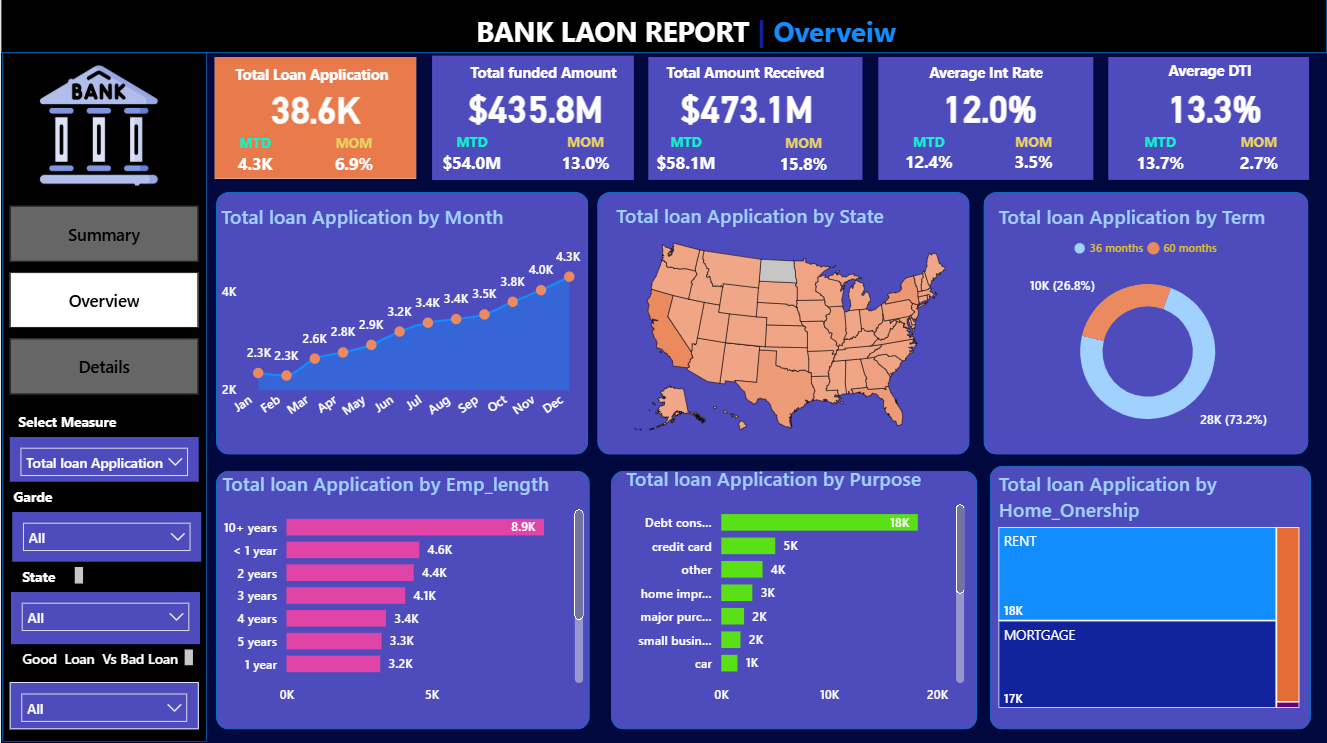

Layout of this report page (visuals, bound fields, positions):
{"tool":"powerbi","page":{"name":"Overview","canvas":[1280,720],"ordinal":1},"visuals":[{"type":"shape","box":[1.2,53.1,197.9,666],"z":0},{"type":"shape","box":[0,0,1280,54.2],"z":1000},{"type":"textbox","box":[454.2,9.6,514.6,45.3],"z":2000},{"type":"shape","box":[206.3,58,194.7,117.3],"z":3000},{"type":"card","fields":{"Values":["Date Table.Total loan Application"]},"box":[205.8,81,194.9,52.1],"z":4000},{"type":"textbox","box":[205.4,60.7,193.7,37.5],"z":5000},{"type":"card","title":"MTD","fields":{"Values":["Date Table.MTD Loan Application"]},"box":[207.2,131.7,75.5,45.3],"z":6000},{"type":"card","title":"MOM","fields":{"Values":["Date Table.MOM LOAN APPLICATION"]},"box":[303.3,131.7,75.5,45.3],"z":7000},{"type":"shape","box":[416.4,56.7,194.7,119.9],"z":8000},{"type":"card","fields":{"Values":["Date Table.Total Funded Amount"]},"box":[418.9,80,194.9,52.1],"z":9000},{"type":"textbox","box":[420.3,58,219.2,41.3],"z":10000},{"type":"card","title":"MTD","fields":{"Values":["Date Table.MTD funded amount"]},"box":[412.6,130.2,83.8,46.4],"z":11000},{"type":"card","title":"MOM","fields":{"Values":["Date Table.MOM total amount Received"]},"box":[515.7,130.2,98,46.4],"z":12000},{"type":"shape","box":[625.3,58,206.3,118.6],"z":13000},{"type":"card","fields":{"Values":["financial_loan.Totla Amount Received"]},"box":[622.1,80.1,194.9,52.1],"z":14000},{"type":"textbox","box":[626.6,58,188.2,41.3],"z":15000},{"type":"card","title":"MTD","fields":{"Values":["Date Table.MTD Total amount Received"]},"box":[623.7,130.3,74.8,47.1],"z":16000},{"type":"card","title":"MOM","fields":{"Values":["Date Table.MOM total Amount received"]},"box":[719.4,131.5,110.9,45.1],"z":17000},{"type":"shape","box":[847.1,58,207.6,118.6],"z":18000},{"type":"card","fields":{"Values":["financial_loan.Average Interest rate"]},"box":[857.4,79.9,193.4,51.6],"z":19000},{"type":"textbox","box":[857.4,58,193.4,40],"z":20000},{"type":"card","title":"MTD","fields":{"Values":["Date Table.MTD average int Rate"]},"box":[843.2,130.2,104.4,45.1],"z":21000},{"type":"card","title":"MOM","fields":{"Values":["Date Table.MOM Avg  Int rate"]},"box":[957.9,130.2,77.4,45.1],"z":22000},{"type":"shape","box":[1068.8,58,193.4,118.6],"z":23000},{"type":"card","fields":{"Values":["Date Table.Avg DTI"]},"box":[1068.8,79.9,205,51.6],"z":24000},{"type":"textbox","box":[1068.8,56.7,203.7,41.3],"z":25000},{"type":"card","title":"MTD","fields":{"Values":["Date Table.MTD avg DTI"]},"box":[1080.8,130.2,75.5,45.3],"z":26000},{"type":"card","title":"MOM","fields":{"Values":["Date Table.MOM Avg DTI"]},"box":[1176.9,130.2,75.5,45.3],"z":27000},{"type":"slicer","fields":{"Values":["financial_loan.Good Vs Bad Loan"]},"box":[8.4,661.1,182.2,45.8],"z":28000},{"type":"textbox","box":[8.4,624.9,182.2,36.2],"z":29000},{"type":"slicer","fields":{"Values":["financial_loan.address_state"]},"box":[9.7,574.3,182.2,50.7],"z":30000},{"type":"slicer","fields":{"Values":["financial_loan.grade"]},"box":[10.9,497.1,182.2,48.3],"z":31000},{"type":"textbox","box":[0,468.1,65.1,29],"z":32000},{"type":"textbox","box":[0,545.3,84.5,26.5],"z":33000},{"type":"slicer","fields":{"Values":["Select Measure.Select Measure"]},"box":[8.4,424.7,182.2,43.4],"z":34000},{"type":"shape","box":[575.5,188.2,359.5,253.4],"z":35000},{"type":"textbox","box":[1.2,395.7,125.5,29],"z":36000},{"type":"shape","box":[207.5,188.2,359.5,253.4],"z":37000},{"type":"areaChart","fields":{"Y":["Date Table.Total loan Application"],"Category":["Date Table.Month"]},"box":[207.5,199.1,357.1,225.6],"z":38000},{"type":"shapeMap","fields":{"Value":["Date Table.Total loan Application"],"Category":["financial_loan.address_state"]},"box":[588.7,197.9,346.2,235.3],"z":39000},{"type":"shape","box":[948.3,188.2,313.7,253.4],"z":40000},{"type":"donutChart","fields":{"Y":["Date Table.Total loan Application"],"Category":["financial_loan.term"]},"box":[957.9,199.1,298,234],"z":41000},{"type":"shape","box":[207.5,457.2,360.7,249.7],"z":42000},{"type":"barChart","fields":{"Y":["Date Table.Total loan Application"],"Category":["financial_loan.emp_length"]},"box":[208.7,457.2,358.3,234],"z":43000},{"type":"shape","box":[588.7,457.2,353.5,249.7],"z":44000},{"type":"barChart","fields":{"Y":["Date Table.Total loan Application"],"Category":["financial_loan.purpose"]},"box":[598.4,452.4,336.6,238.9],"z":45000},{"type":"shape","box":[954.3,452.4,310.1,254.6],"z":46000},{"type":"treemap","fields":{"Values":["Date Table.Total loan Application"],"Group":["financial_loan.home_ownership"]},"box":[957.9,457.2,300.4,234],"z":47000},{"type":"image","box":[8.4,57.9,171.3,130.3],"z":48000},{"type":"pageNavigator","box":[8.4,201.5,182.2,184.6],"z":49000}]}

Visuals, with their boxes in screenshot pixels (x1, y1, x2, y2), scaled from the page's 1280x720 canvas onto the 1327x743 screenshot:
shape: x1=1, y1=55, x2=206, y2=742
shape: x1=0, y1=0, x2=1326, y2=56
textbox: x1=471, y1=10, x2=1004, y2=57
shape: x1=214, y1=60, x2=416, y2=181
card - Date Table.Total loan Application: x1=213, y1=84, x2=415, y2=137
textbox: x1=213, y1=63, x2=414, y2=101
"MTD" card: x1=215, y1=136, x2=293, y2=183
"MOM" card: x1=314, y1=136, x2=393, y2=183
shape: x1=432, y1=59, x2=634, y2=182
card - Date Table.Total Funded Amount: x1=434, y1=83, x2=636, y2=136
textbox: x1=436, y1=60, x2=663, y2=102
"MTD" card: x1=428, y1=134, x2=515, y2=182
"MOM" card: x1=535, y1=134, x2=636, y2=182
shape: x1=648, y1=60, x2=862, y2=182
card - financial_loan.Totla Amount Received: x1=645, y1=83, x2=847, y2=136
textbox: x1=650, y1=60, x2=845, y2=102
"MTD" card: x1=647, y1=134, x2=724, y2=183
"MOM" card: x1=746, y1=136, x2=861, y2=182
shape: x1=878, y1=60, x2=1093, y2=182
card - financial_loan.Average Interest rate: x1=889, y1=82, x2=1089, y2=136
textbox: x1=889, y1=60, x2=1089, y2=101
"MTD" card: x1=874, y1=134, x2=982, y2=181
"MOM" card: x1=993, y1=134, x2=1073, y2=181
shape: x1=1108, y1=60, x2=1309, y2=182
card - Date Table.Avg DTI: x1=1108, y1=82, x2=1321, y2=136
textbox: x1=1108, y1=59, x2=1319, y2=101
"MTD" card: x1=1120, y1=134, x2=1199, y2=181
"MOM" card: x1=1220, y1=134, x2=1298, y2=181
slicer - financial_loan.Good Vs Bad Loan: x1=9, y1=682, x2=198, y2=729
textbox: x1=9, y1=645, x2=198, y2=682
slicer - financial_loan.address_state: x1=10, y1=593, x2=199, y2=645
slicer - financial_loan.grade: x1=11, y1=513, x2=200, y2=563
textbox: x1=0, y1=483, x2=67, y2=513
textbox: x1=0, y1=563, x2=88, y2=590
slicer - Select Measure.Select Measure: x1=9, y1=438, x2=198, y2=483
shape: x1=597, y1=194, x2=969, y2=456
textbox: x1=1, y1=408, x2=131, y2=438
shape: x1=215, y1=194, x2=588, y2=456
areaChart - Date Table.Total loan Application x Date Table.Month: x1=215, y1=205, x2=585, y2=438
shapeMap - Date Table.Total loan Application x financial_loan.address_state: x1=610, y1=204, x2=969, y2=447
shape: x1=983, y1=194, x2=1308, y2=456
donutChart - Date Table.Total loan Application x financial_loan.term: x1=993, y1=205, x2=1302, y2=447
shape: x1=215, y1=472, x2=589, y2=729
barChart - Date Table.Total loan Application x financial_loan.emp_length: x1=216, y1=472, x2=588, y2=713
shape: x1=610, y1=472, x2=977, y2=729
barChart - Date Table.Total loan Application x financial_loan.purpose: x1=620, y1=467, x2=969, y2=713
shape: x1=989, y1=467, x2=1311, y2=730
treemap - Date Table.Total loan Application x financial_loan.home_ownership: x1=993, y1=472, x2=1305, y2=713
image: x1=9, y1=60, x2=186, y2=194
pageNavigator: x1=9, y1=208, x2=198, y2=398
